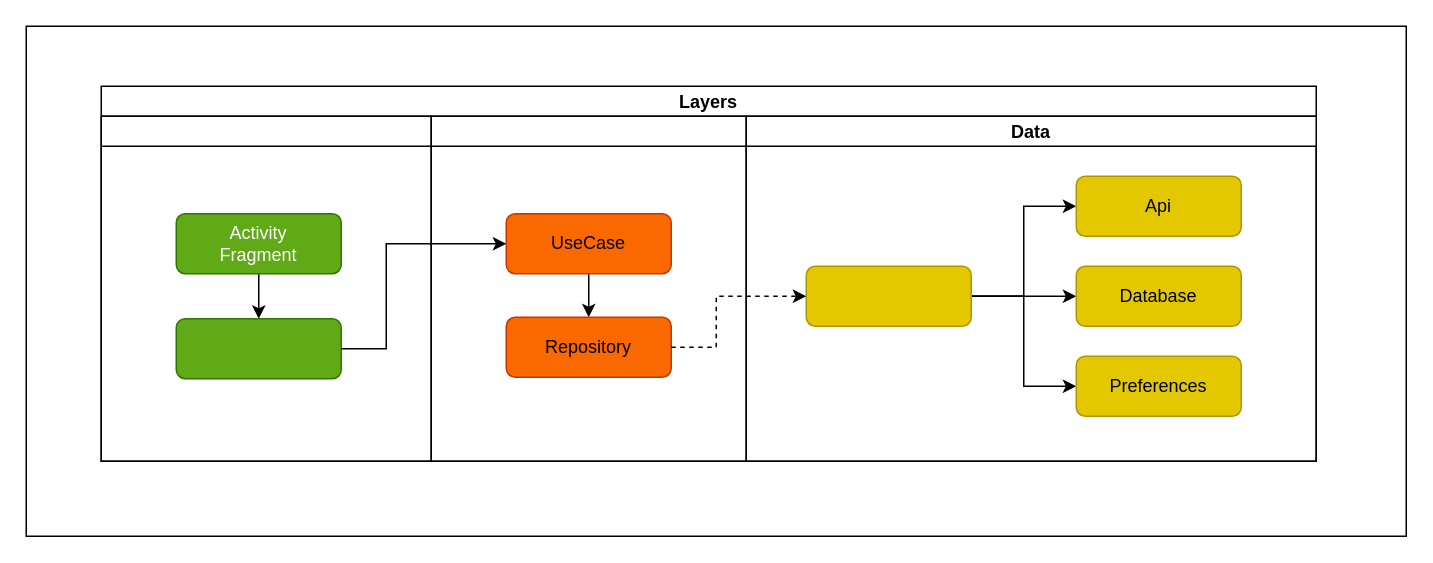
The diagram is 1433 pixels wide and 563 high, and some of its shapes have lost their labels. The shapes that lost their labels are listed below. From the top down, each one's box as (x1, y1, x2, y2) in pixels, then its label:
(100, 115, 431, 461): Presentation
(430, 115, 746, 461): Domain
(805, 265, 971, 326): RepositoryImp
(175, 317, 341, 379): ViewModel
